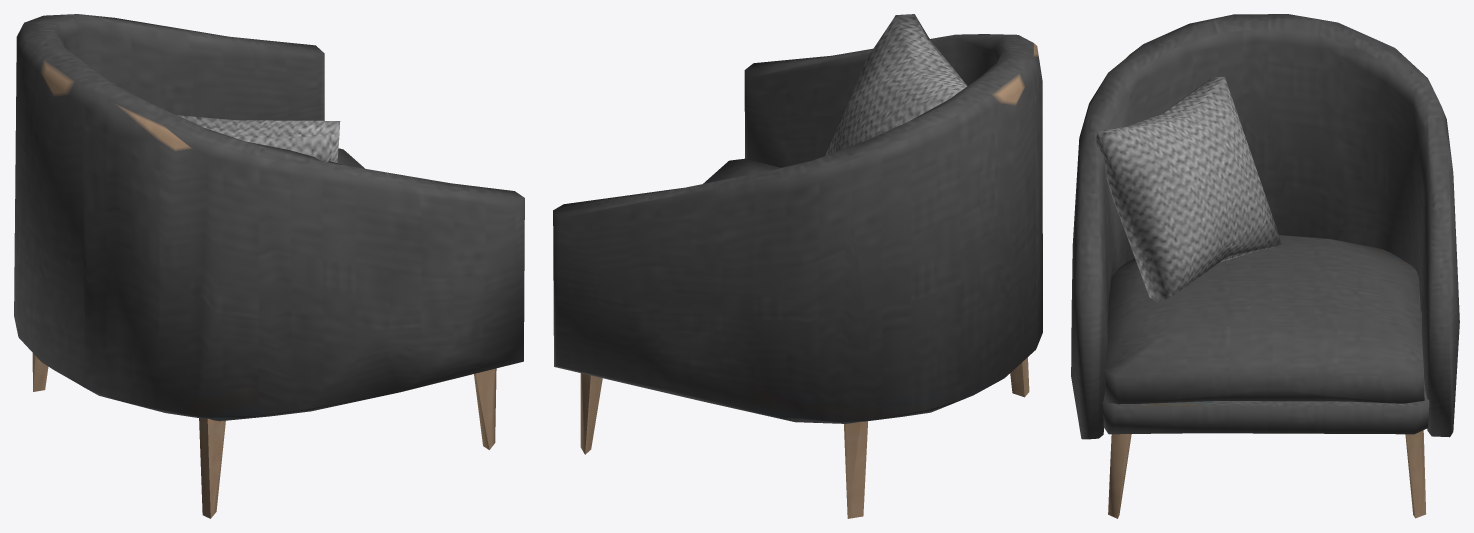
File: S_Sofa0001.obj
The picture shows the model from 3 angles, left to right: view 1: azimuth 30°, elevation 25°; view 2: azimuth 150°, elevation 25°; view 3: azimuth 270°, elevation 25°; orthographic projection. The views are drawn at different scales.
Size of the model in its own units: 0.71 by 0.72 by 0.715.
1 material, 1 textured.
